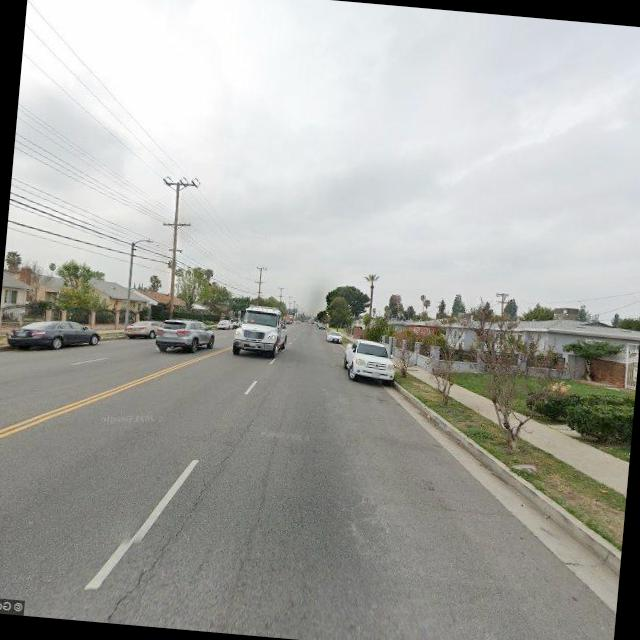pothole: (122, 383, 262, 614)
